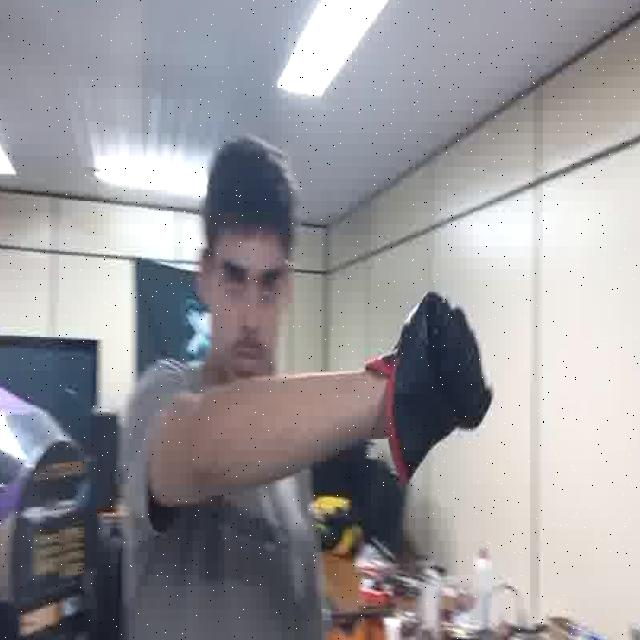Gloves: (362, 288, 492, 480)
